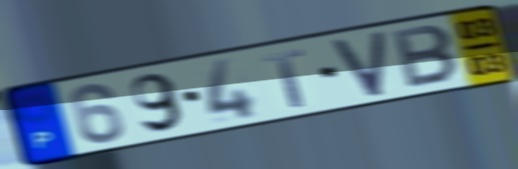4: (202, 57, 263, 123)
6: (67, 81, 126, 146)
9: (129, 71, 185, 134)
B: (389, 22, 463, 91)
T: (259, 46, 308, 110)
V: (329, 28, 389, 100)
